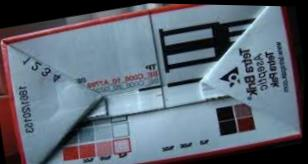cardboard: (0, 4, 302, 163)
